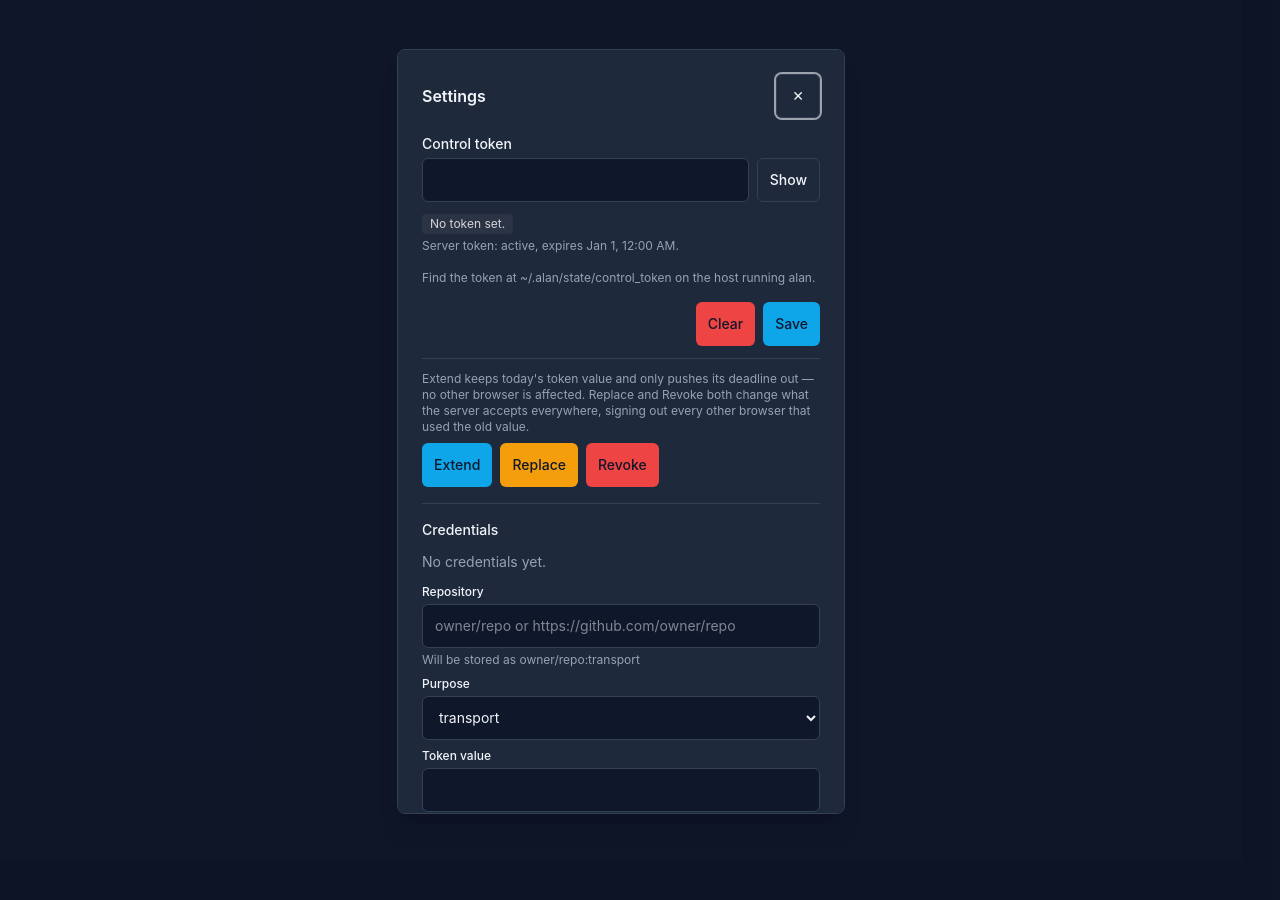
Scenario: SettingsModal › Save persists the draft and updates the indicator to 'Token set.'
Type "new-token" into the password field with test id "control-token-input". click: point(585, 180)
box: [422,158,749,202]
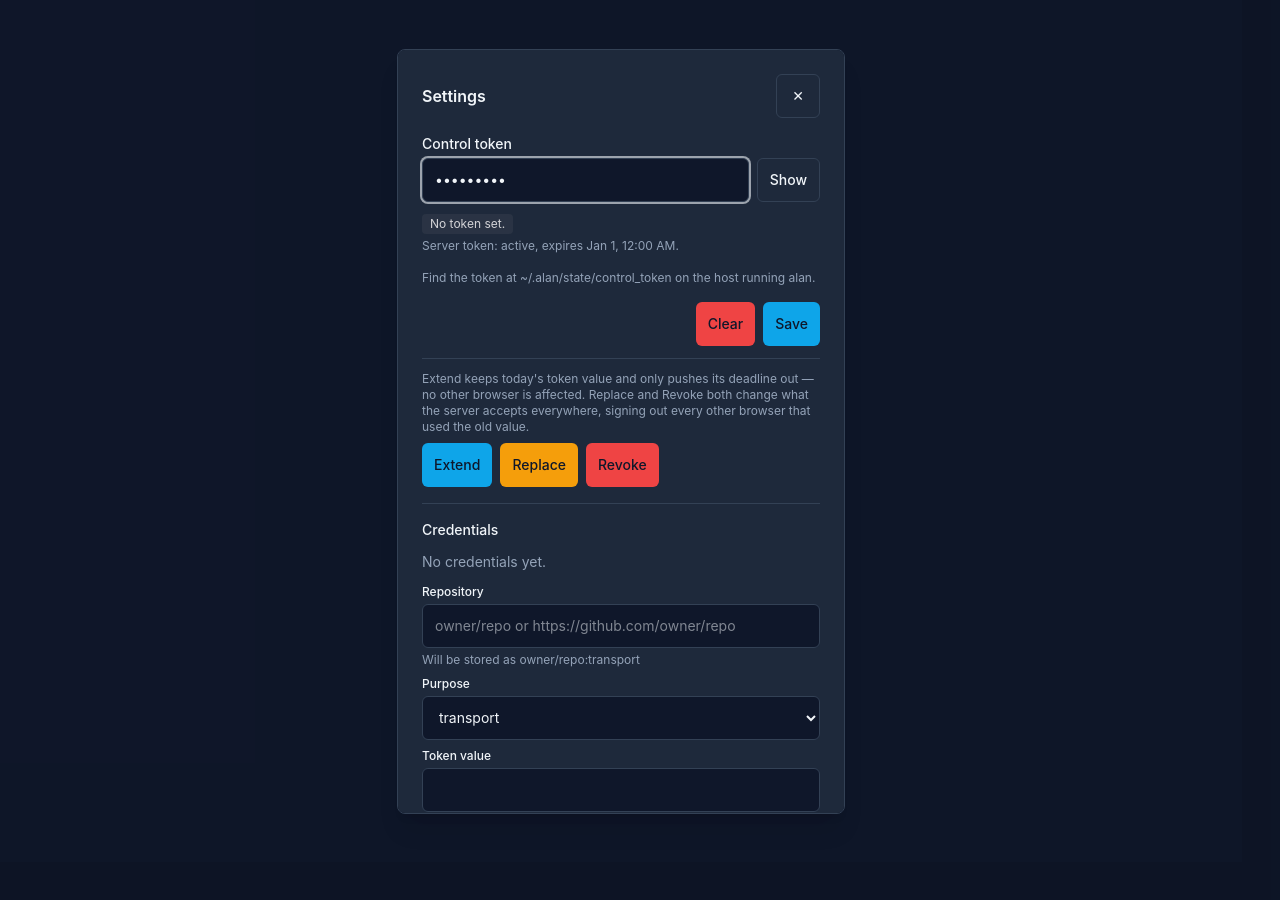
Click the button with test id "save-token". click: point(792, 324)
box: [763,302,820,346]
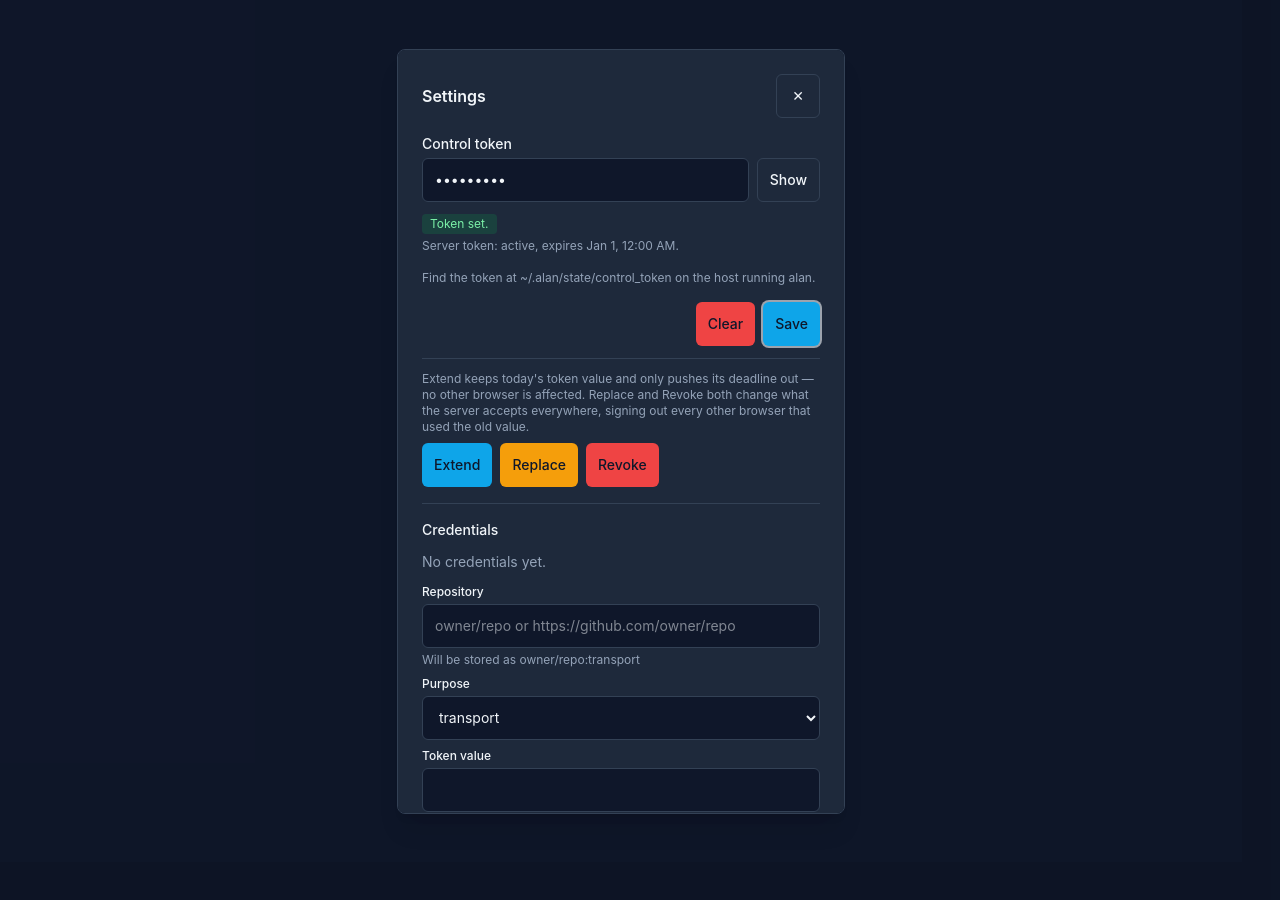
Now the text with test id "control-token-status" reads "Token set.", box [430,216,488,230]
